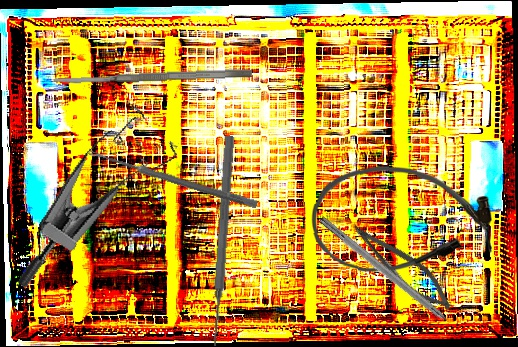Cannula: (309, 162, 495, 278)
Hook Surgical: (317, 215, 467, 340)
Micro Scissor: (340, 215, 462, 319)
Pusher: (207, 135, 237, 347)
Spatula Surgical: (53, 67, 253, 86)
Speculum: (15, 88, 188, 323)
Surgical Spoon: (87, 148, 259, 209)
